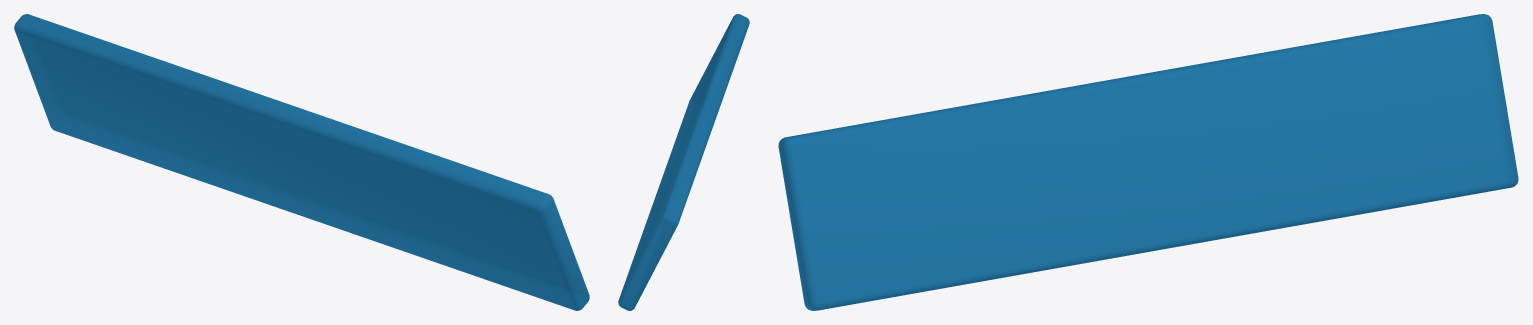
File: Pop_up_voice_menu.FBX
3 renders of one model, left to right at view 1: azimuth 30°, elevation 25°; view 2: azimuth 150°, elevation 25°; view 3: azimuth 270°, elevation 25°, orthographic. The views are drawn at different scales.
Parts seen in each view (by area): view 1: Box001; view 2: Box001; view 3: Box001.
Part boxes in pixels (box(x1,y1,x2,y2)): Box001: box(14, 14, 589, 310); Box001: box(618, 14, 749, 310); Box001: box(778, 14, 1518, 310).
Size of the model in its own units: 8.7 by 4.15 by 17.76.
